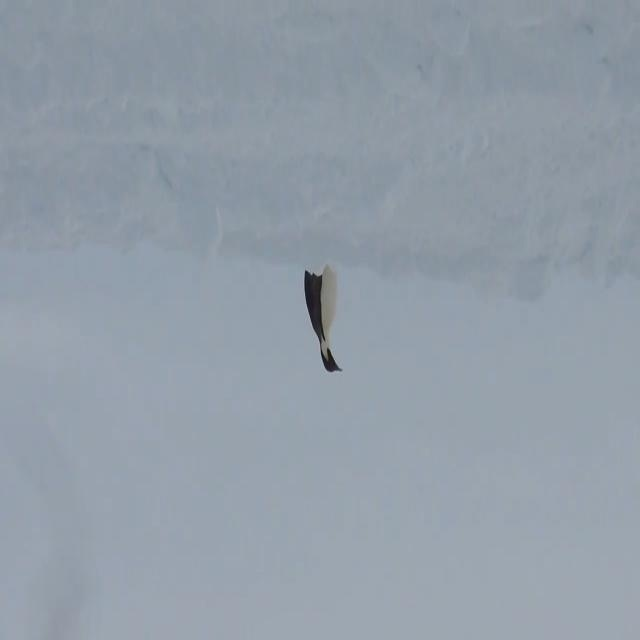penguin: (302, 265, 342, 376)
